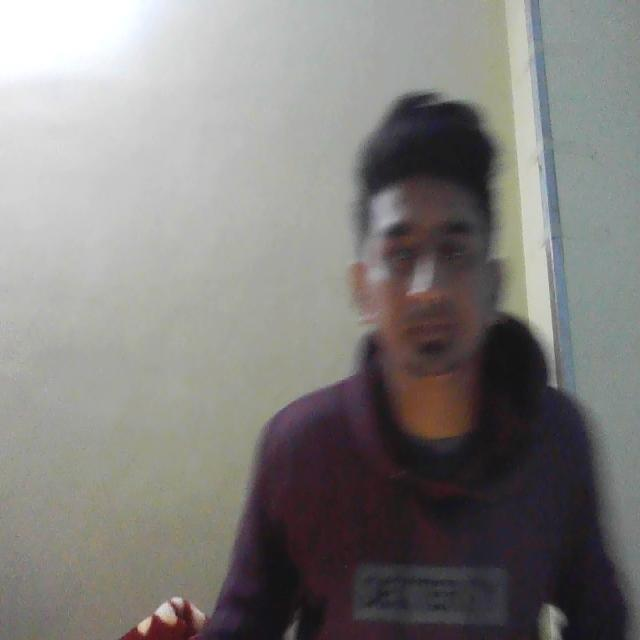real: (349, 101, 519, 423)
